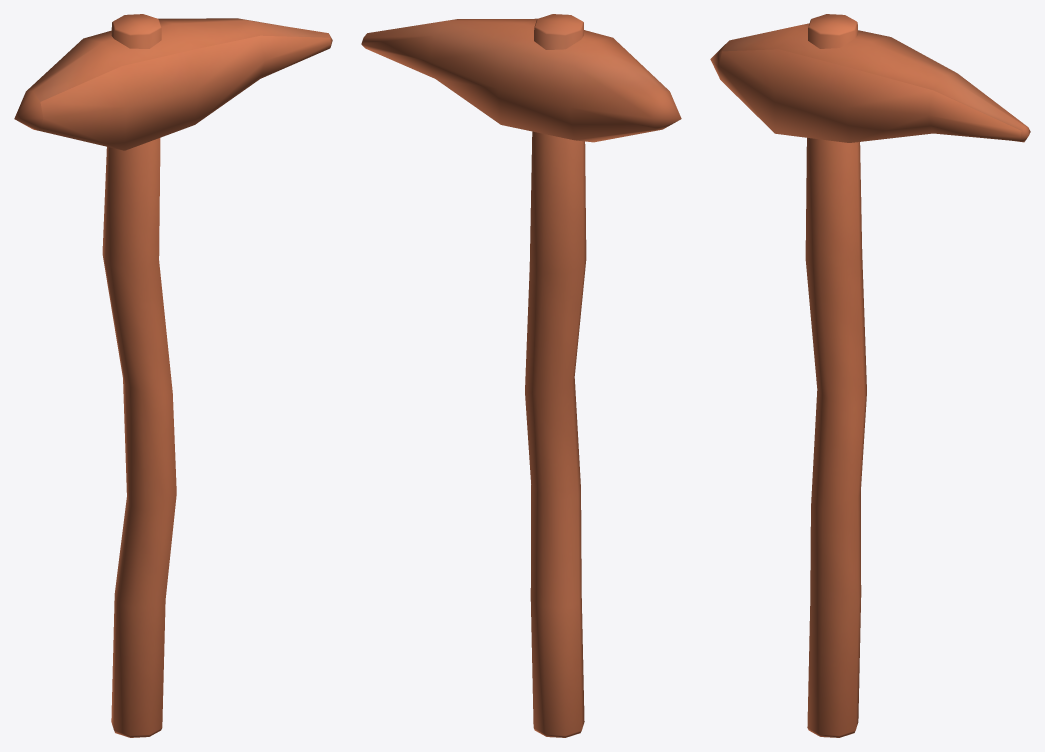
Rendered from Wooden_Pickaxe.fbx.
3 renders of one model, left to right at view 1: azimuth 30°, elevation 25°; view 2: azimuth 150°, elevation 25°; view 3: azimuth 330°, elevation 25°, orthographic.
Visible parts, largest first — view 1: Wooden_Pickaxe; view 2: Wooden_Pickaxe; view 3: Wooden_Pickaxe.
Boxes of the visible parts, box(x1,y1,x2,y2) form: Wooden_Pickaxe: box(14, 14, 332, 737); Wooden_Pickaxe: box(361, 14, 681, 737); Wooden_Pickaxe: box(710, 14, 1030, 737).
Bounding box in the file's own units: 0.226 × 0.4797 × 0.0598.
